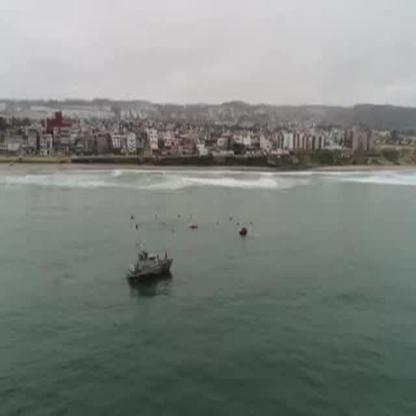Boat: (125, 242, 173, 288)
